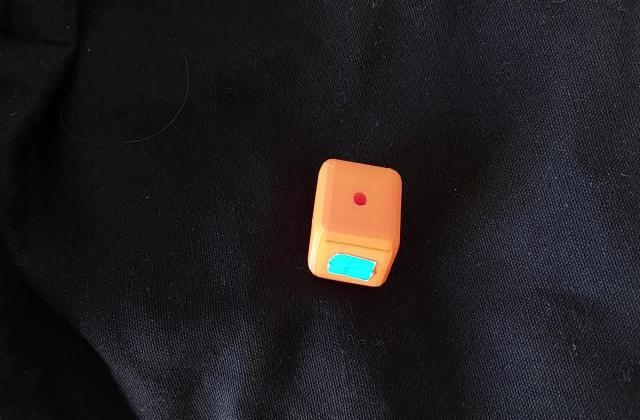blue: (340, 257, 362, 274)
cube: (300, 153, 405, 294)
